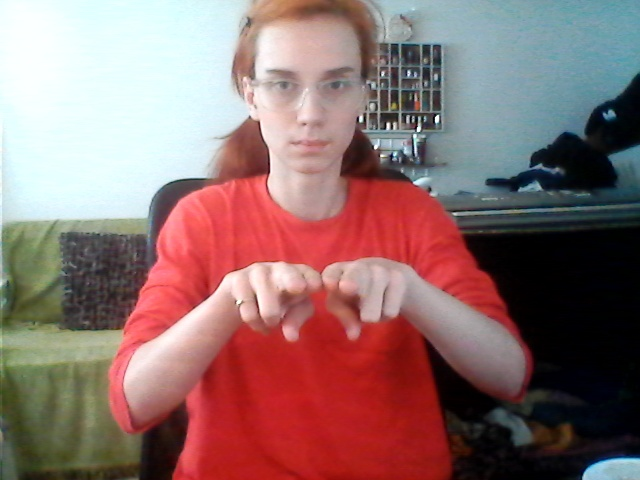brat: (222, 250, 420, 351)
